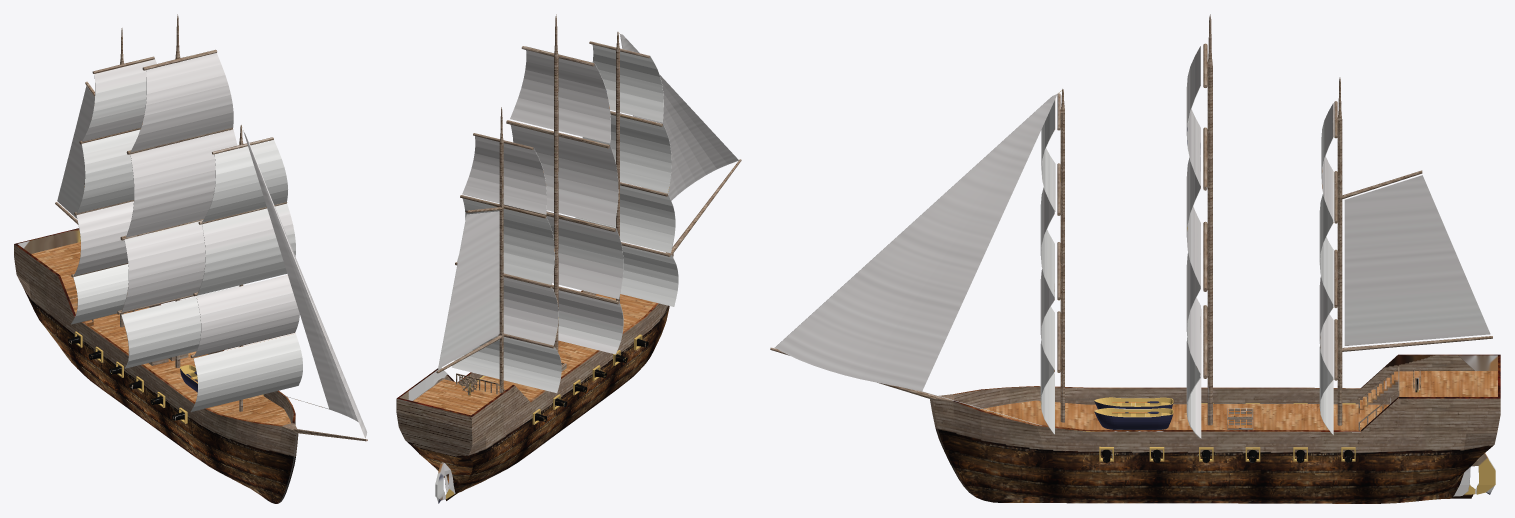
3 views of the same model, side by side, from view 1: azimuth 30°, elevation 25°; view 2: azimuth 150°, elevation 25°; view 3: azimuth 270°, elevation 25° (orthographic). The views are drawn at different scales.
Parts seen in each view (by area): view 1: Cube; view 2: Cube; view 3: Cube.
Boxes of the visible parts, <box> form: Cube: <box>14,14,367,503</box>; Cube: <box>396,14,741,503</box>; Cube: <box>770,14,1500,503</box>.
Bounding box in the file's own units: 320 × 1040 × 1405.
